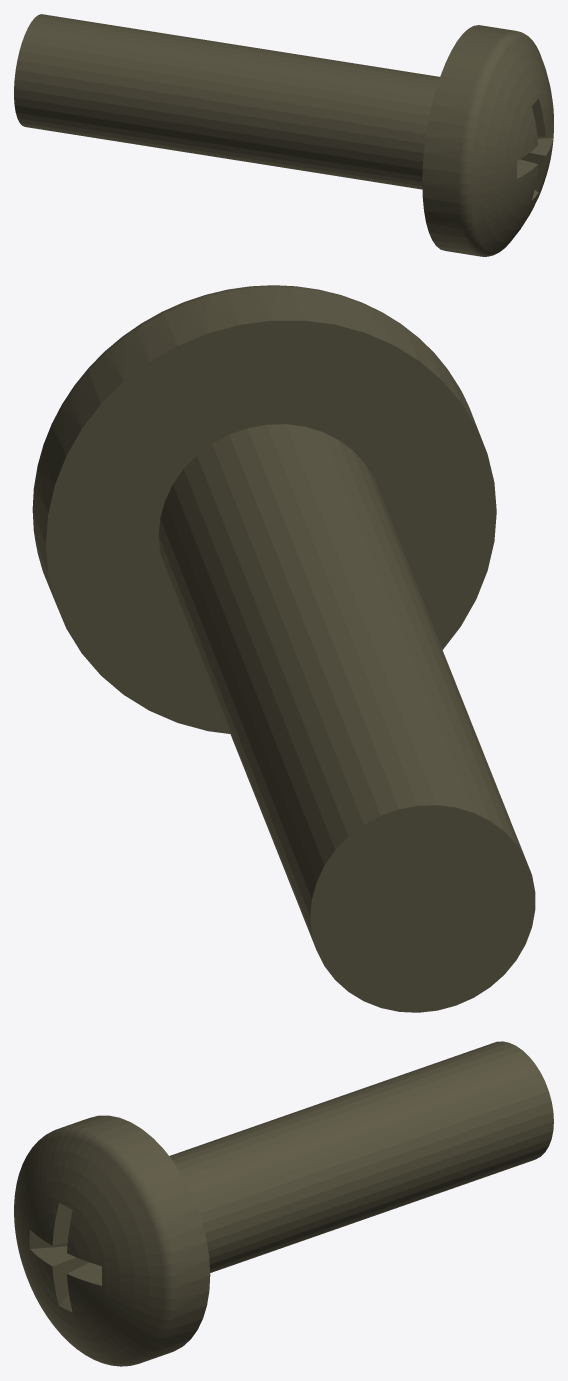
Rendered from Dinh_Dai.glb.
The picture shows the model from 3 angles, top to bottom: view 1: azimuth 30°, elevation 25°; view 2: azimuth 150°, elevation 25°; view 3: azimuth 270°, elevation 25°; orthographic projection. The views are drawn at different scales.
Visible parts, largest first — view 1: defaultobject; view 2: defaultobject; view 3: defaultobject.
Boxes of the visible parts, x1,y1,x2,y2 form: defaultobject: [14, 14, 553, 256]; defaultobject: [32, 285, 535, 1012]; defaultobject: [14, 1041, 553, 1366].
Bounding box in the file's own units: 39.46 × 20 × 43.45.
